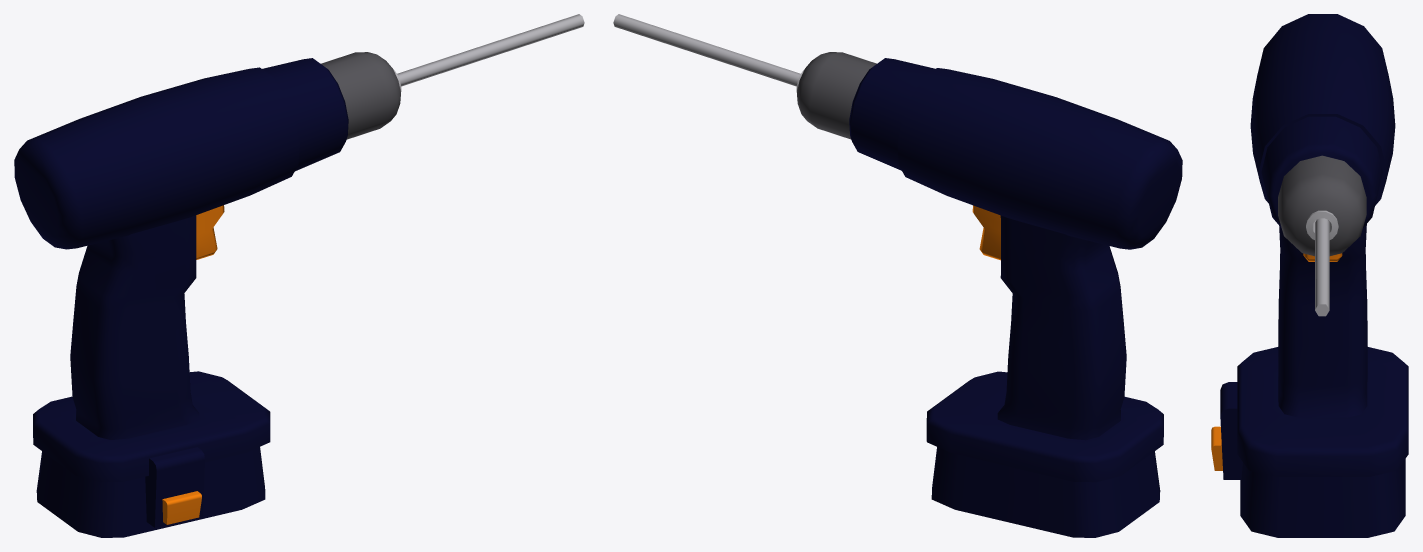
File: Drill.fbx
The picture shows the model from 3 angles, left to right: view 1: azimuth 30°, elevation 25°; view 2: azimuth 150°, elevation 25°; view 3: azimuth 270°, elevation 25°; orthographic projection. The views are drawn at different scales.
Parts seen in each view (by area): view 1: Drill; view 2: Drill; view 3: Drill.
Part boxes in pixels (x1=…): Drill: x1=14, y1=14, x2=584, y2=537; Drill: x1=613, y1=14, x2=1182, y2=537; Drill: x1=1211, y1=14, x2=1408, y2=537.
Size of the model in its own units: 67.58 by 19.07 by 46.56.
